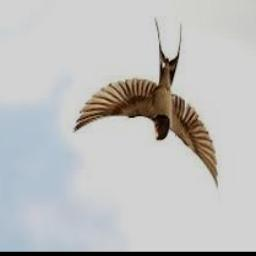Swallow: (75, 17, 219, 189)
